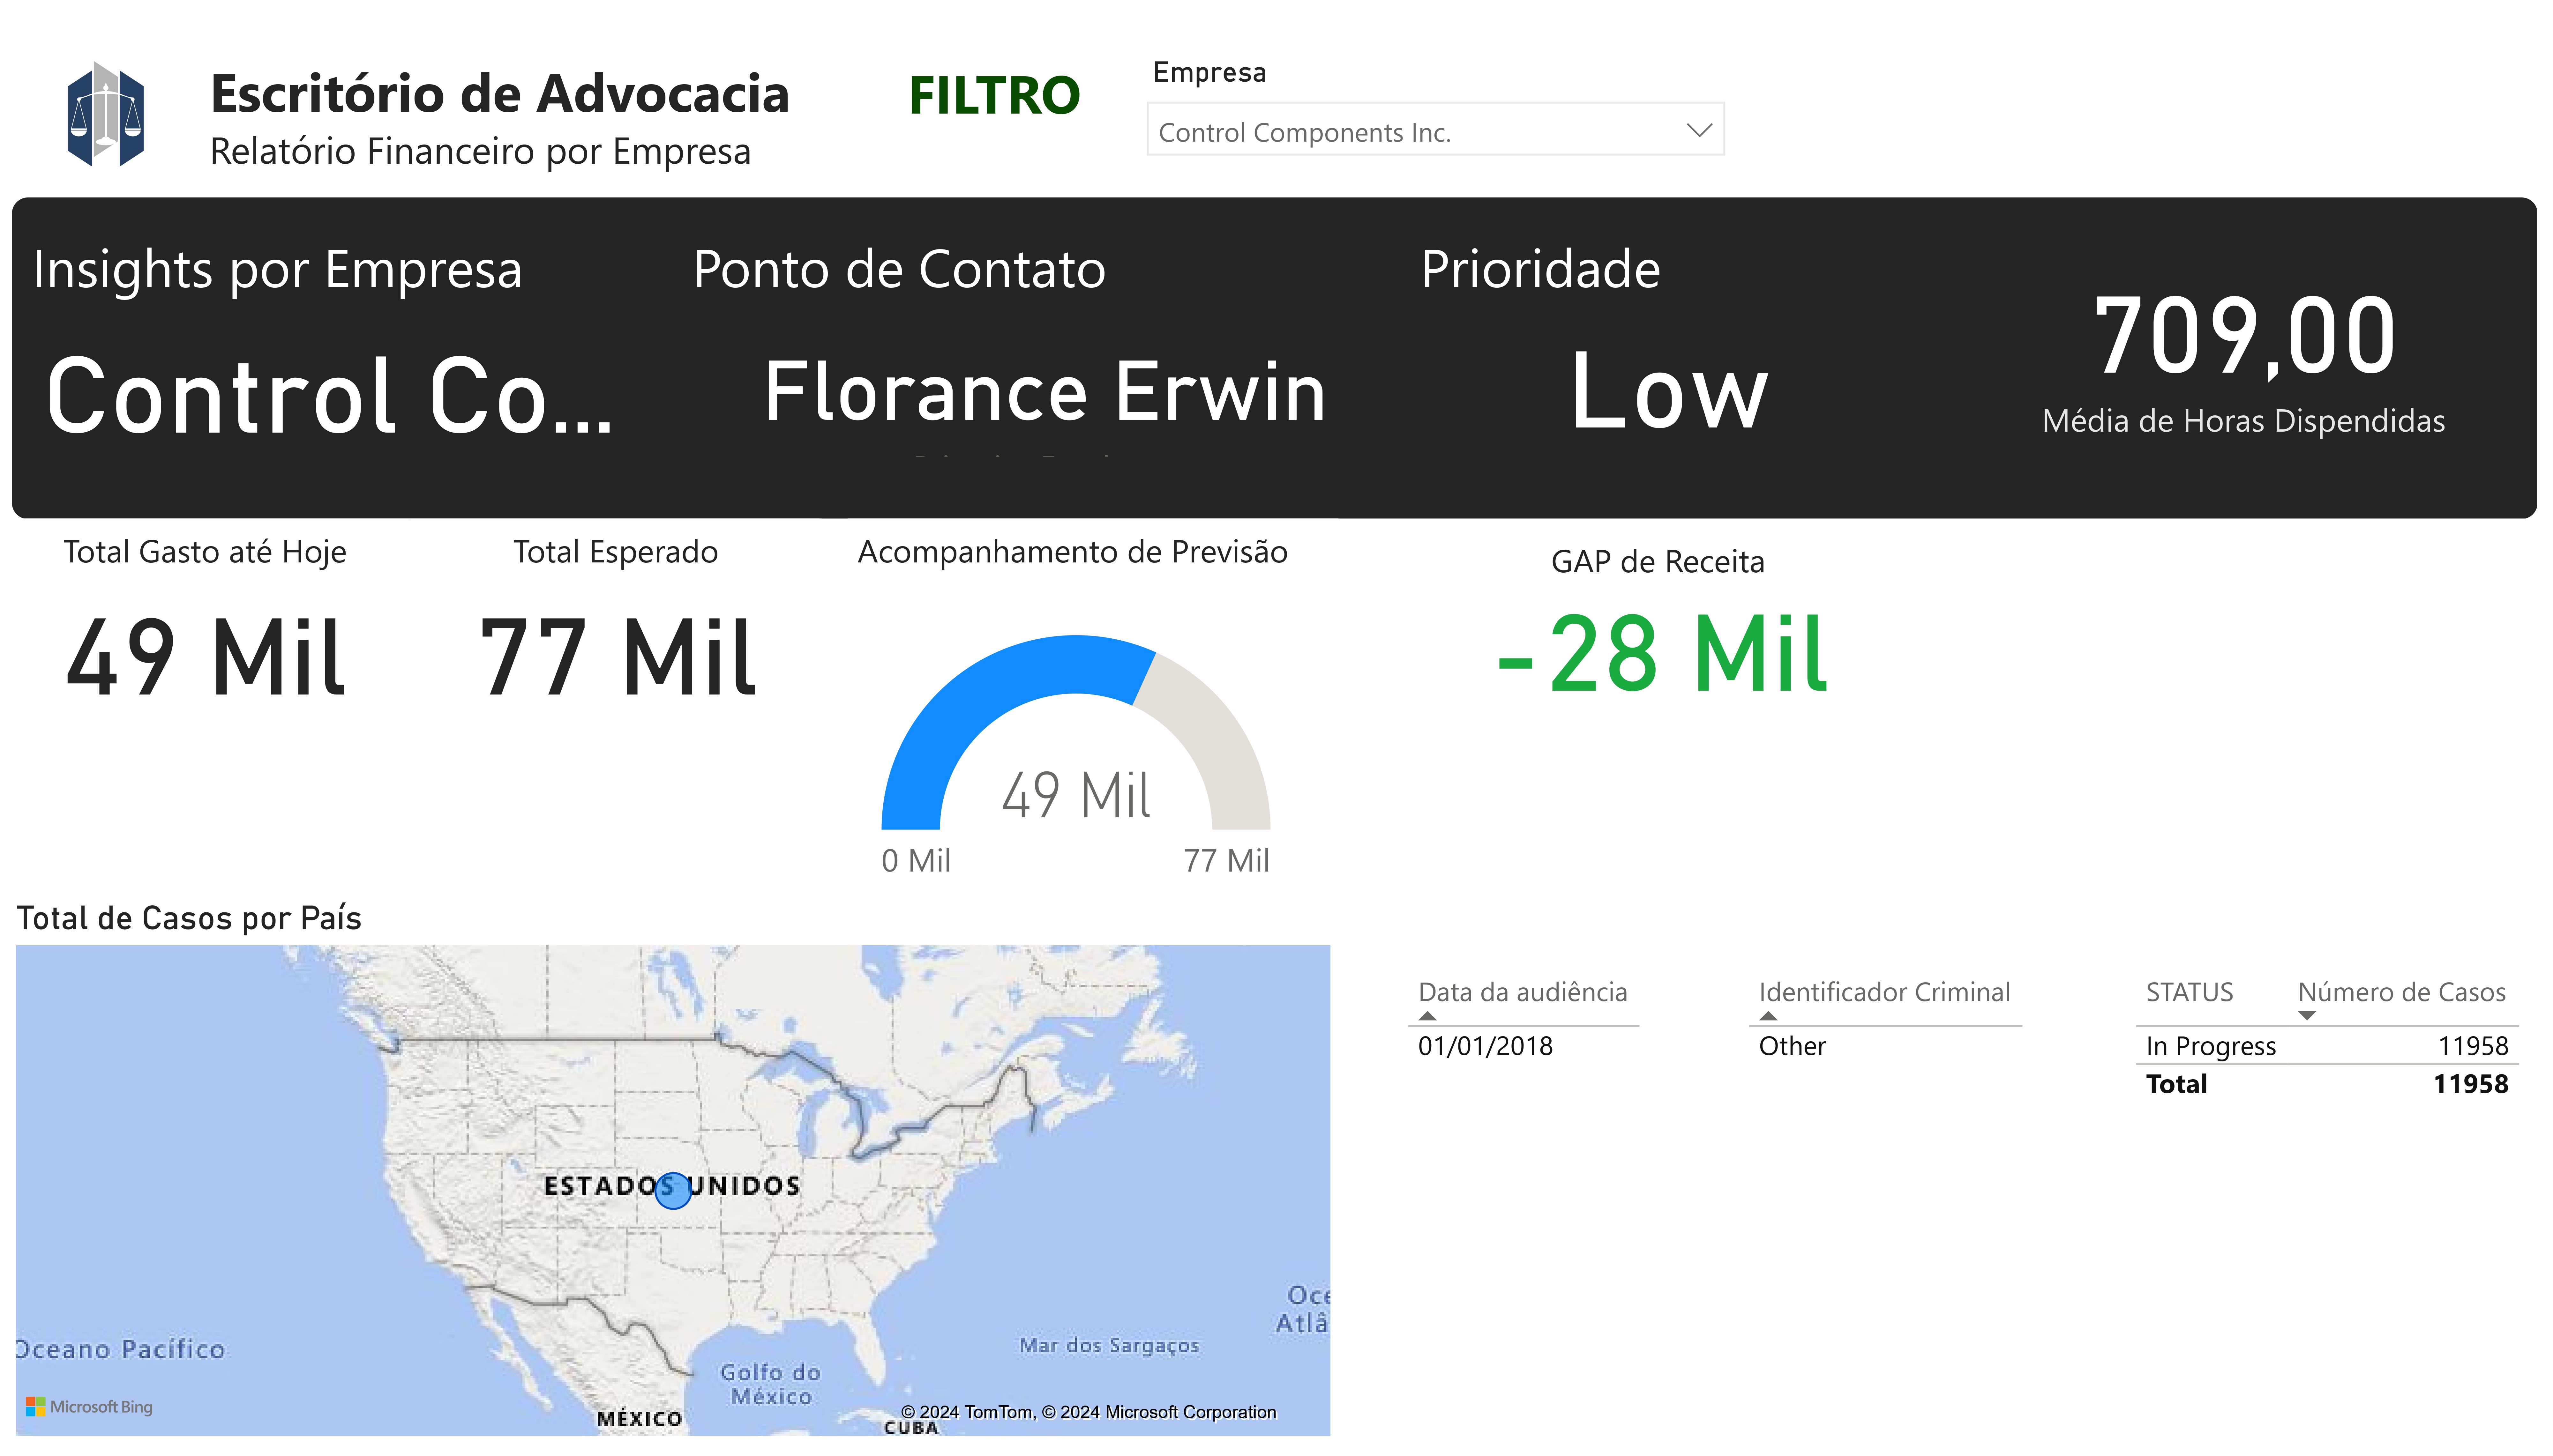

This screenshot's page, from the dashboard's own definition file:
{"tool":"powerbi","page":{"name":"Clients","canvas":[1280,720],"ordinal":1},"visuals":[{"type":"shape","box":[6.2,93.8,1266.2,161.2],"z":0},{"type":"textbox","box":[11.2,105,330,77.5],"z":1000},{"type":"card","fields":{"Values":["LAW_FIRM_DATA csv.TOTAL_SPENT"]},"box":[0,296.5,206,62],"z":2000},{"type":"card","fields":{"Values":["LAW_FIRM_DATA csv.TOTAL_EXPECTED"]},"box":[206,296.5,206,62],"z":3000},{"type":"textbox","box":[0,254.8,205.7,41.4],"z":4000},{"type":"textbox","box":[205.8,254.8,205.7,41.4],"z":5000},{"type":"gauge","fields":{"Y":["LAW_FIRM_DATA csv.TOTAL_SPENT"],"MaxValue":["LAW_FIRM_DATA csv.TOTAL_EXPECTED"]},"box":[437.3,292.5,205,170],"z":6000},{"type":"textbox","box":[425,255,246.2,46.2],"z":7000},{"type":"card","fields":{"Values":["LAW_FIRM_DATA csv.COMPANY"]},"box":[0.3,165,330,63.3],"z":8000},{"type":"textbox","box":[341.5,105,330,77.5],"z":9000},{"type":"card","fields":{"Values":["LAW_FIRM_DATA csv.Employee"]},"box":[341.2,165,366.2,63.8],"z":10000},{"type":"textbox","box":[707,105,330,78.3],"z":11000},{"type":"card","fields":{"Values":["LAW_FIRM_DATA csv.PRIORITY"]},"box":[707,160,260,68.3],"z":12000},{"type":"tableEx","fields":{"Values":["LAW_FIRM_DATA csv.JUDGMENT_DATE_2"]},"box":[700,478.5,146.2,241.5],"z":13000},{"type":"card","fields":{"Values":["LAW_FIRM_DATA csv.REVENUE_GAP"]},"box":[708.8,287.5,245,76.2],"z":14000},{"type":"tableEx","fields":{"Values":["LAW_FIRM_DATA csv.PRIMARY_CRIME_CODE"]},"box":[870.8,478.5,161.5,241.5],"z":15000},{"type":"tableEx","fields":{"Values":["LAW_FIRM_DATA csv.STATUS","LAW_FIRM_DATA csv.CASE_ID"]},"box":[1064.6,478.5,209.2,241.5],"z":16000},{"type":"map","fields":{"Size":["LAW_FIRM_DATA csv.CASE_ID"],"Category":["LAW_FIRM_DATA csv.COUNTRY"]},"box":[3.1,444.6,669.2,275.4],"z":17000},{"type":"card","fields":{"Values":["LAW_FIRM_DATA csv.HOUR_RATE"]},"box":[1000.3,105,250,123.3],"z":18000},{"type":"slicer","fields":{"Values":["LAW_FIRM_DATA csv.COMPANY"]},"box":[565,18.3,310,70],"z":19000},{"type":"textbox","box":[450,18.3,115,70],"z":20000},{"type":"image","box":[3.1,0,100,104.6],"z":21000},{"type":"textbox","box":[100,16.9,375.4,46.2],"z":22000},{"type":"textbox","box":[100,52.3,300,52.3],"z":23000},{"type":"textbox","box":[708.8,260,245,41.2],"z":24000}]}

Visuals, with their boxes in screenshot pixels (x1, y1, x2, y2), scaled from the page's 1280x720 canvas onto the 2553x1456 screenshot:
shape: (x1=12, y1=190, x2=2538, y2=516)
textbox: (x1=22, y1=212, x2=680, y2=369)
card - LAW_FIRM_DATA csv.TOTAL_SPENT: (x1=0, y1=599, x2=411, y2=725)
card - LAW_FIRM_DATA csv.TOTAL_EXPECTED: (x1=411, y1=599, x2=822, y2=725)
textbox: (x1=0, y1=515, x2=410, y2=599)
textbox: (x1=410, y1=515, x2=821, y2=599)
gauge - LAW_FIRM_DATA csv.TOTAL_SPENT x LAW_FIRM_DATA csv.TOTAL_EXPECTED: (x1=872, y1=591, x2=1281, y2=935)
textbox: (x1=848, y1=516, x2=1339, y2=609)
card - LAW_FIRM_DATA csv.COMPANY: (x1=1, y1=334, x2=659, y2=462)
textbox: (x1=681, y1=212, x2=1339, y2=369)
card - LAW_FIRM_DATA csv.Employee: (x1=680, y1=334, x2=1411, y2=463)
textbox: (x1=1410, y1=212, x2=2068, y2=371)
card - LAW_FIRM_DATA csv.PRIORITY: (x1=1410, y1=323, x2=1929, y2=462)
tableEx - LAW_FIRM_DATA csv.JUDGMENT_DATE_2: (x1=1396, y1=968, x2=1688, y2=1456)
card - LAW_FIRM_DATA csv.REVENUE_GAP: (x1=1414, y1=581, x2=1902, y2=735)
tableEx - LAW_FIRM_DATA csv.PRIMARY_CRIME_CODE: (x1=1737, y1=968, x2=2059, y2=1456)
tableEx - LAW_FIRM_DATA csv.STATUS x LAW_FIRM_DATA csv.CASE_ID: (x1=2123, y1=968, x2=2541, y2=1456)
map - LAW_FIRM_DATA csv.CASE_ID x LAW_FIRM_DATA csv.COUNTRY: (x1=6, y1=899, x2=1341, y2=1456)
card - LAW_FIRM_DATA csv.HOUR_RATE: (x1=1995, y1=212, x2=2494, y2=462)
slicer - LAW_FIRM_DATA csv.COMPANY: (x1=1127, y1=37, x2=1745, y2=179)
textbox: (x1=897, y1=37, x2=1127, y2=179)
image: (x1=6, y1=0, x2=206, y2=212)
textbox: (x1=199, y1=34, x2=948, y2=128)
textbox: (x1=199, y1=106, x2=798, y2=212)
textbox: (x1=1414, y1=526, x2=1902, y2=609)
